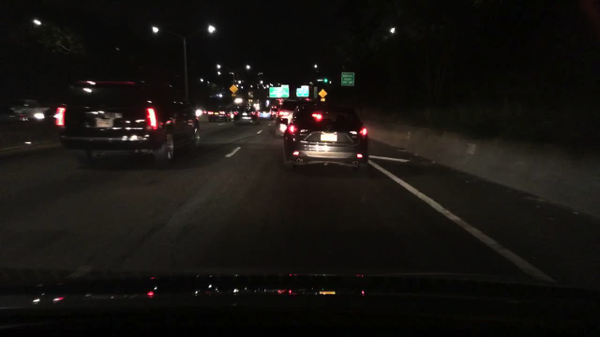car: (53, 74, 201, 168), (280, 100, 370, 176), (275, 99, 302, 141), (9, 99, 52, 123), (232, 104, 259, 125), (208, 104, 232, 123), (192, 105, 209, 120), (255, 107, 272, 120), (271, 107, 281, 117)
traffic sign: (269, 86, 290, 98), (341, 71, 354, 86), (296, 88, 309, 97), (228, 84, 240, 93), (318, 88, 328, 97), (279, 84, 290, 88), (300, 85, 310, 89), (316, 78, 324, 82), (230, 93, 237, 97), (319, 98, 326, 102)
